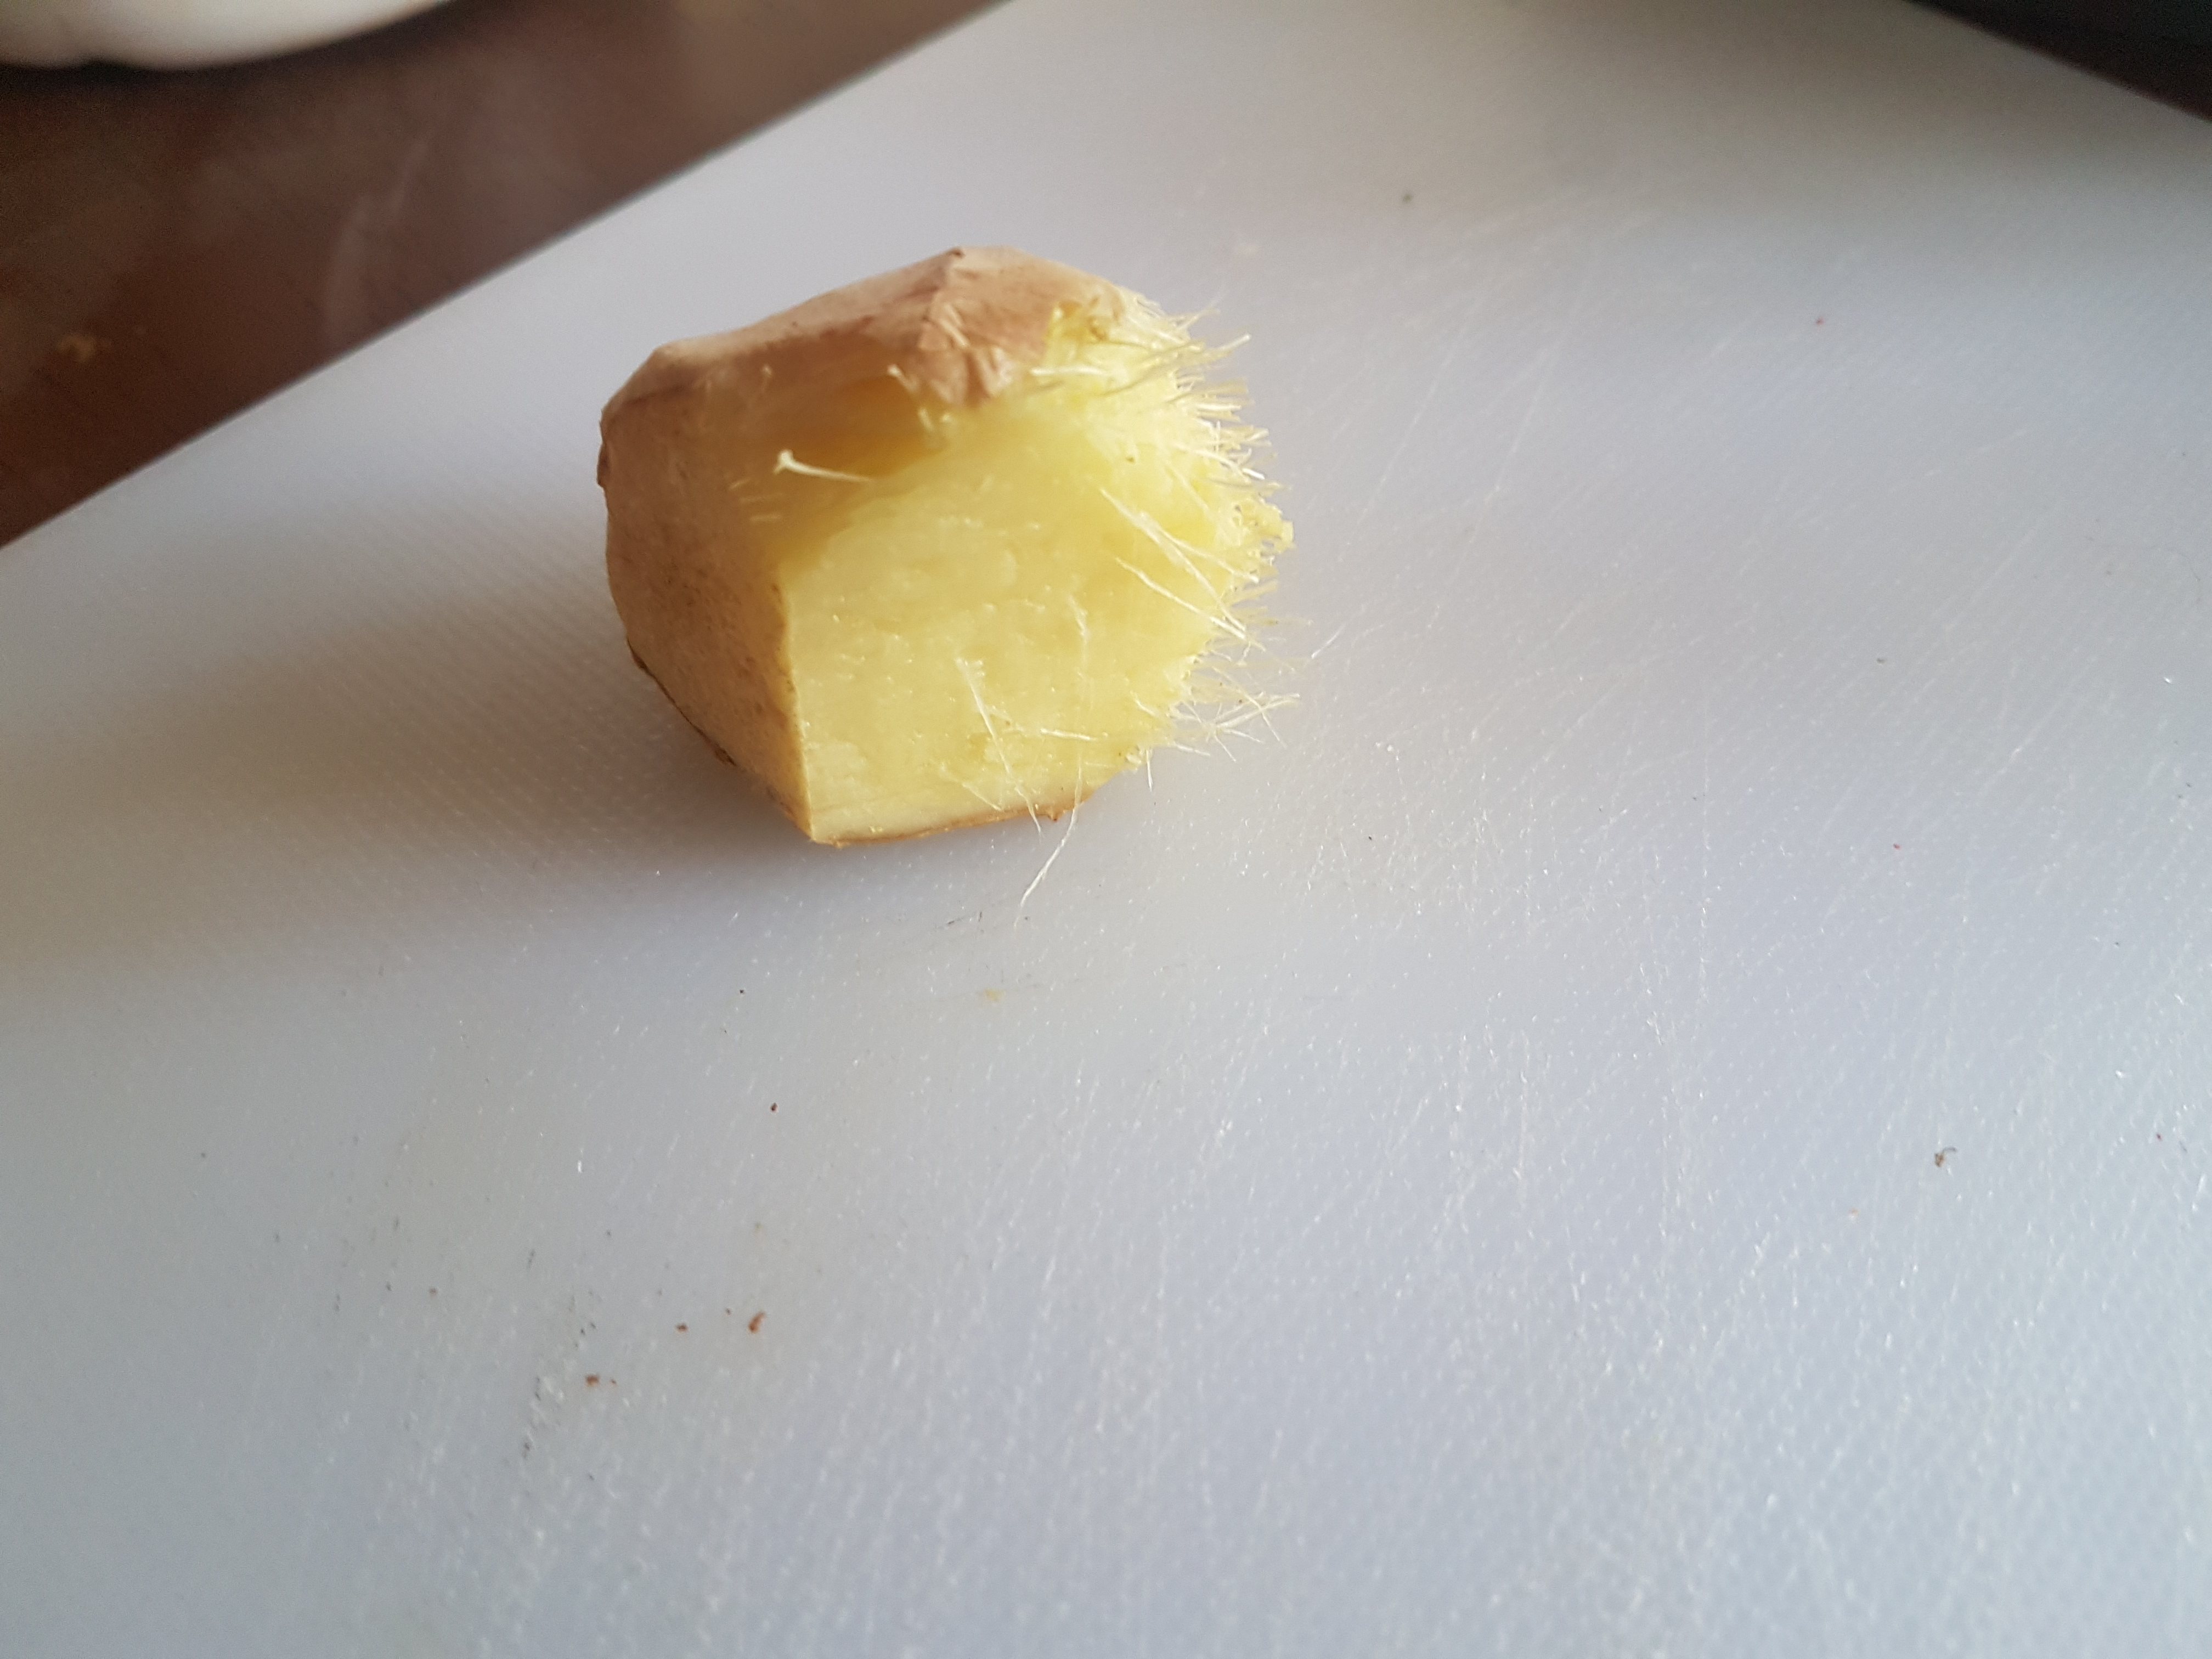Minced ginger: (486, 213, 1329, 840)
